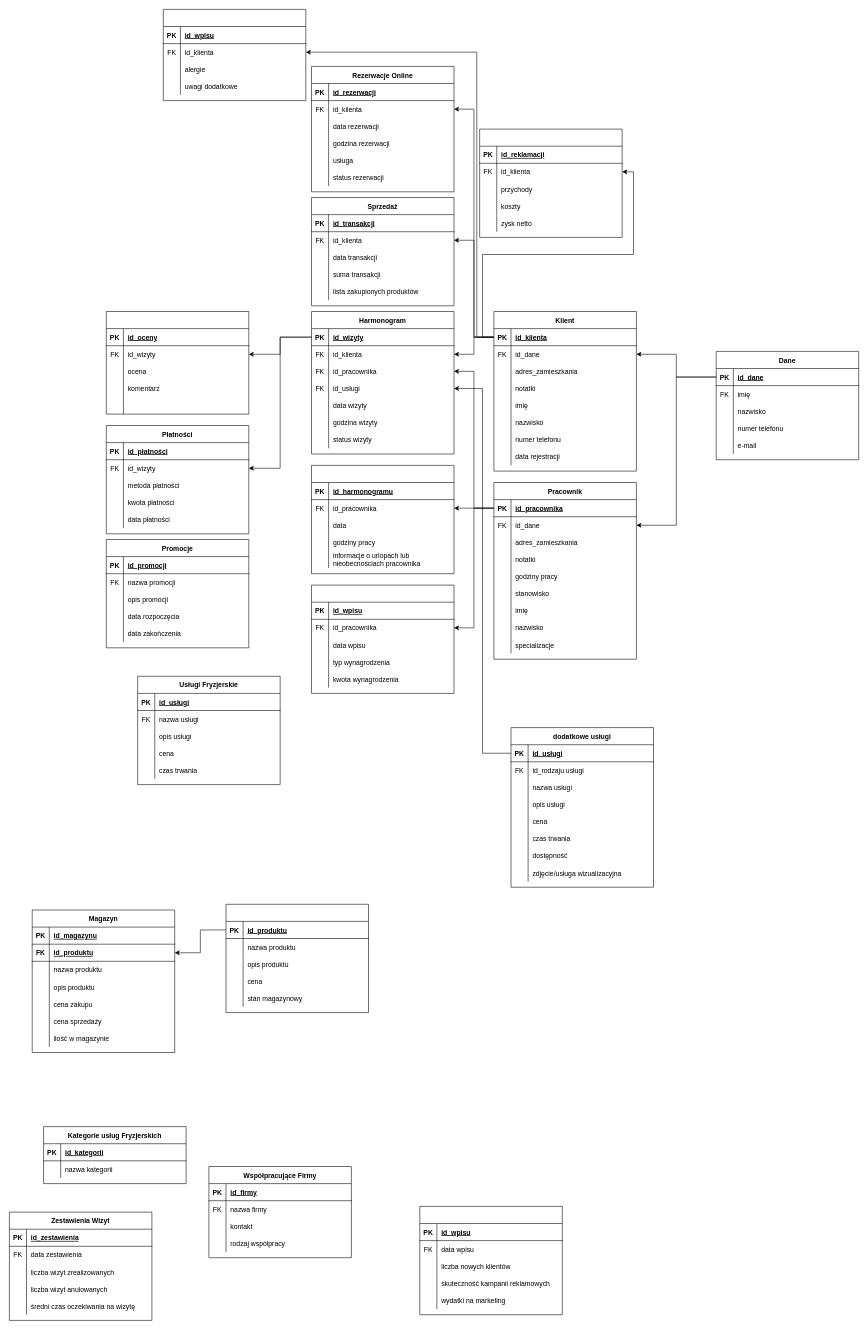
Some shapes in this 868 by 1330 pixel diagram are drawn without their labels. Here are the shapes that lost their labels. From the top down, the box of each, then its label:
(163, 9, 306, 101): Alergie i Uwagi Klientów
(479, 129, 622, 237): Obsługa Reklamacji
(106, 311, 249, 414): Oceny Klientów
(311, 465, 454, 574): Harmonogram Pracowników
(311, 585, 454, 693): Wynagrodzenia Pracowników
(225, 904, 369, 1013): Produkty
(419, 1206, 562, 1315): Statystyki Marketingowe
